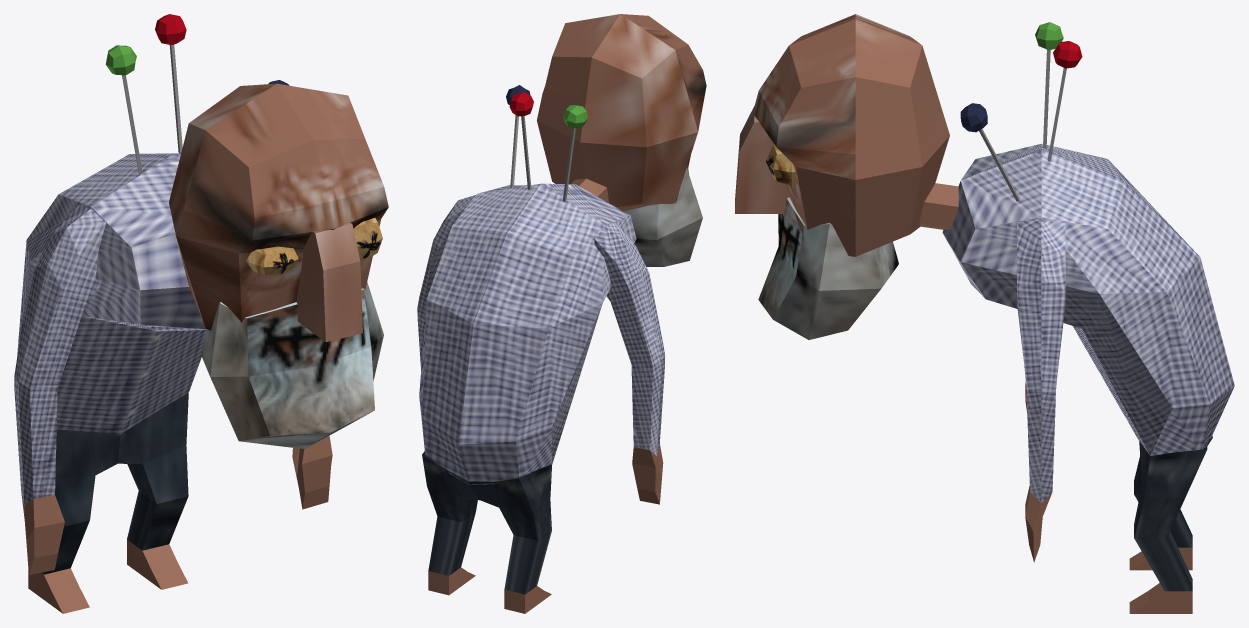
File: kakekvoodoo.fbx
The picture shows the model from 3 angles, left to right: view 1: azimuth 30°, elevation 25°; view 2: azimuth 150°, elevation 25°; view 3: azimuth 270°, elevation 25°; orthographic projection. The views are drawn at different scales.
Parts seen in each view (by area): view 1: Cube.023; view 2: Cube.023; view 3: Cube.023.
Part boxes in pixels (x1=…): Cube.023: x1=14, y1=14, x2=388, y2=613; Cube.023: x1=417, y1=14, x2=706, y2=613; Cube.023: x1=735, y1=14, x2=1234, y2=613.
Bounding box in the file's own units: 536 × 1028 × 821.
